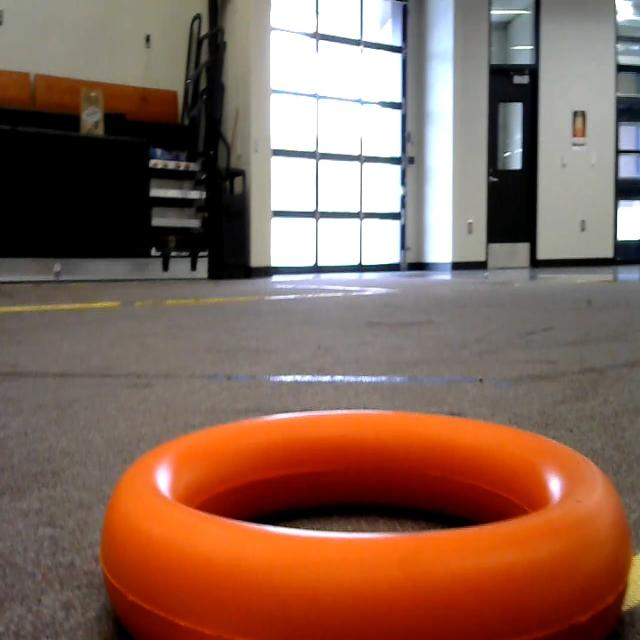note: (77, 413, 640, 640)
